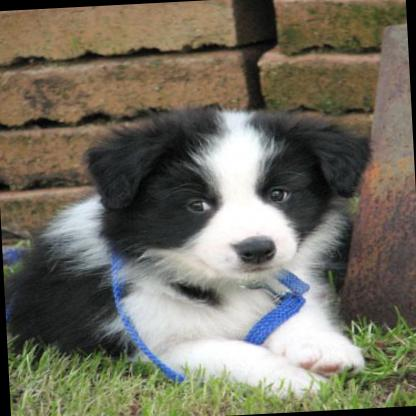Border_collie: (0, 84, 389, 415)
